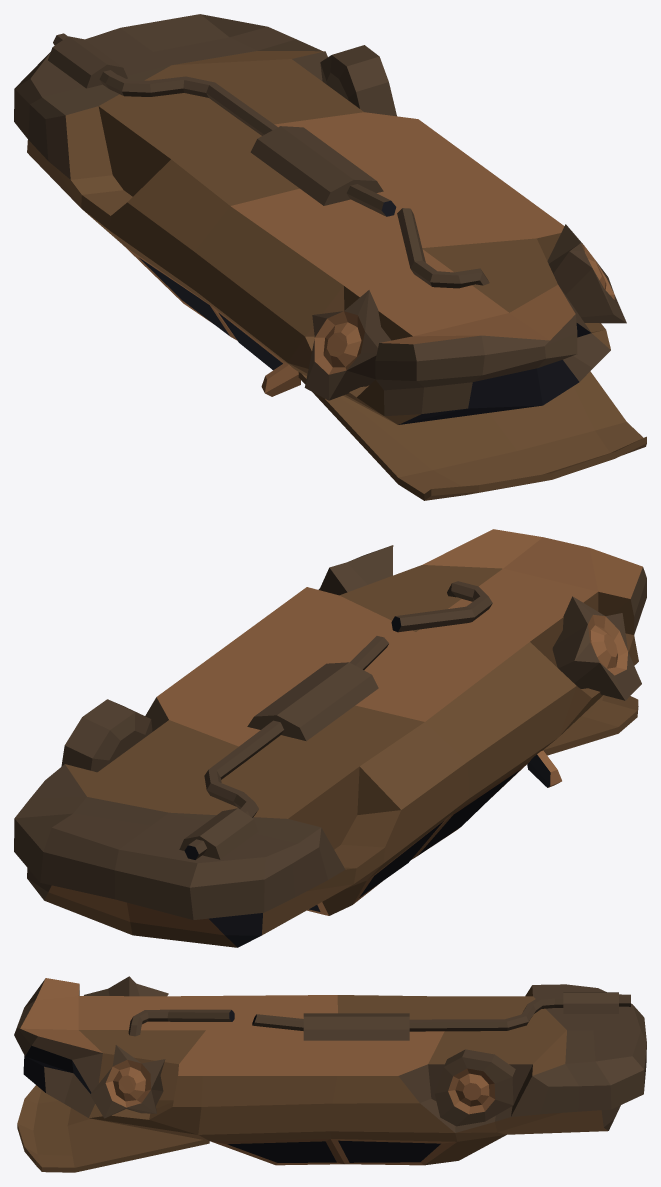
The model's file is apocalypse-car-destroyed-apocalypse.glb.
3 renders of one model, top to bottom at view 1: azimuth 30°, elevation 25°; view 2: azimuth 150°, elevation 25°; view 3: azimuth 270°, elevation 25°, orthographic. The views are drawn at different scales.
Parts seen in each view (by area): view 1: car-destroyed-apocalypse; view 2: car-destroyed-apocalypse; view 3: car-destroyed-apocalypse.
Part boxes in pixels (x1,y1,x2,y2): car-destroyed-apocalypse: [14, 14, 646, 500]; car-destroyed-apocalypse: [14, 529, 646, 947]; car-destroyed-apocalypse: [14, 976, 646, 1172].
Size of the model in its own units: 2.18 by 1.15 by 5.21.
